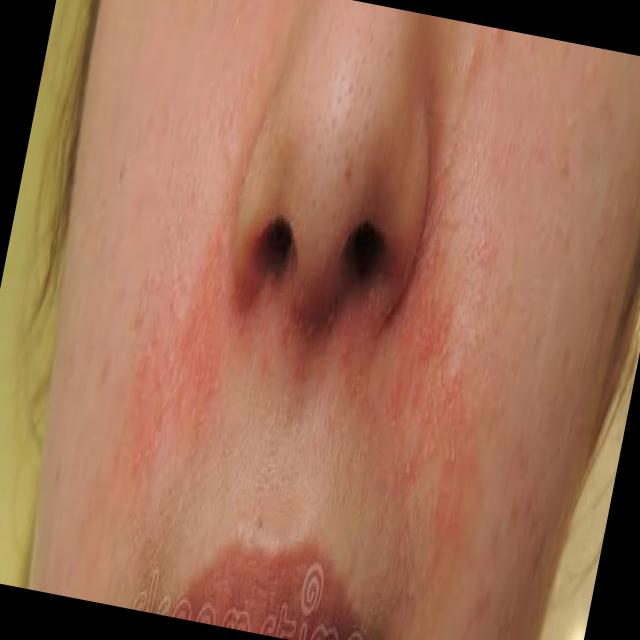redness: (125, 220, 488, 575)
